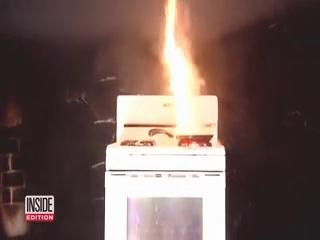Fire: (158, 1, 212, 134)
